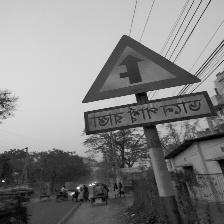Side-road-right: (83, 36, 219, 132)
